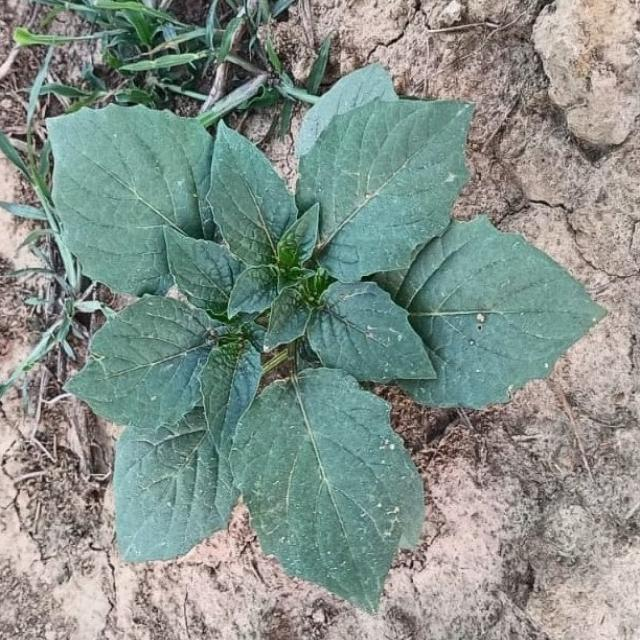weed: (48, 66, 604, 610)
